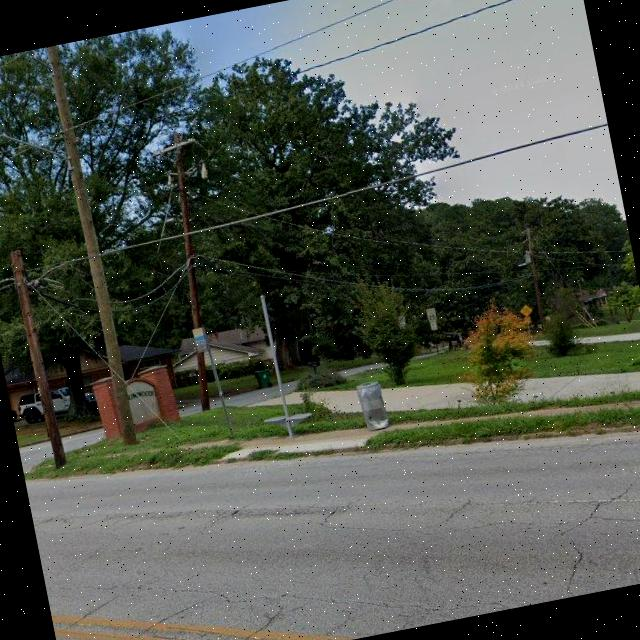seating: (262, 409, 318, 442)
trash_can: (356, 379, 391, 432)
